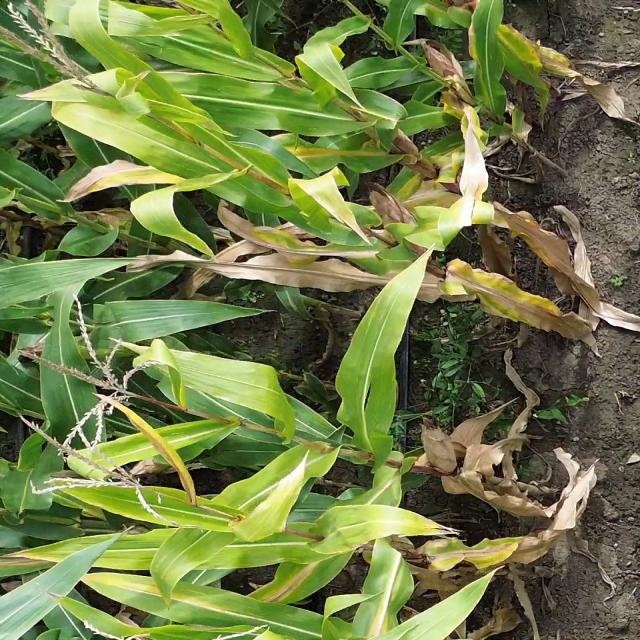northern-leaf-blight: (226, 198, 408, 269), (438, 17, 576, 102), (248, 540, 354, 614), (414, 518, 536, 581)
southern-leaf-blight: (192, 75, 322, 146), (0, 247, 94, 336)
